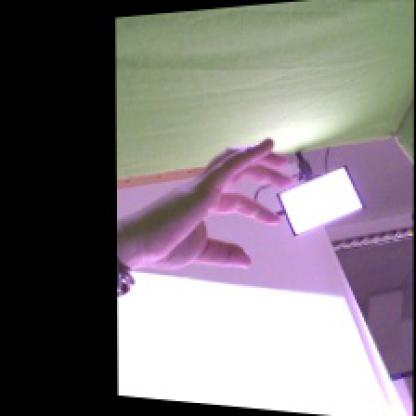Hand: (117, 137, 294, 270)
